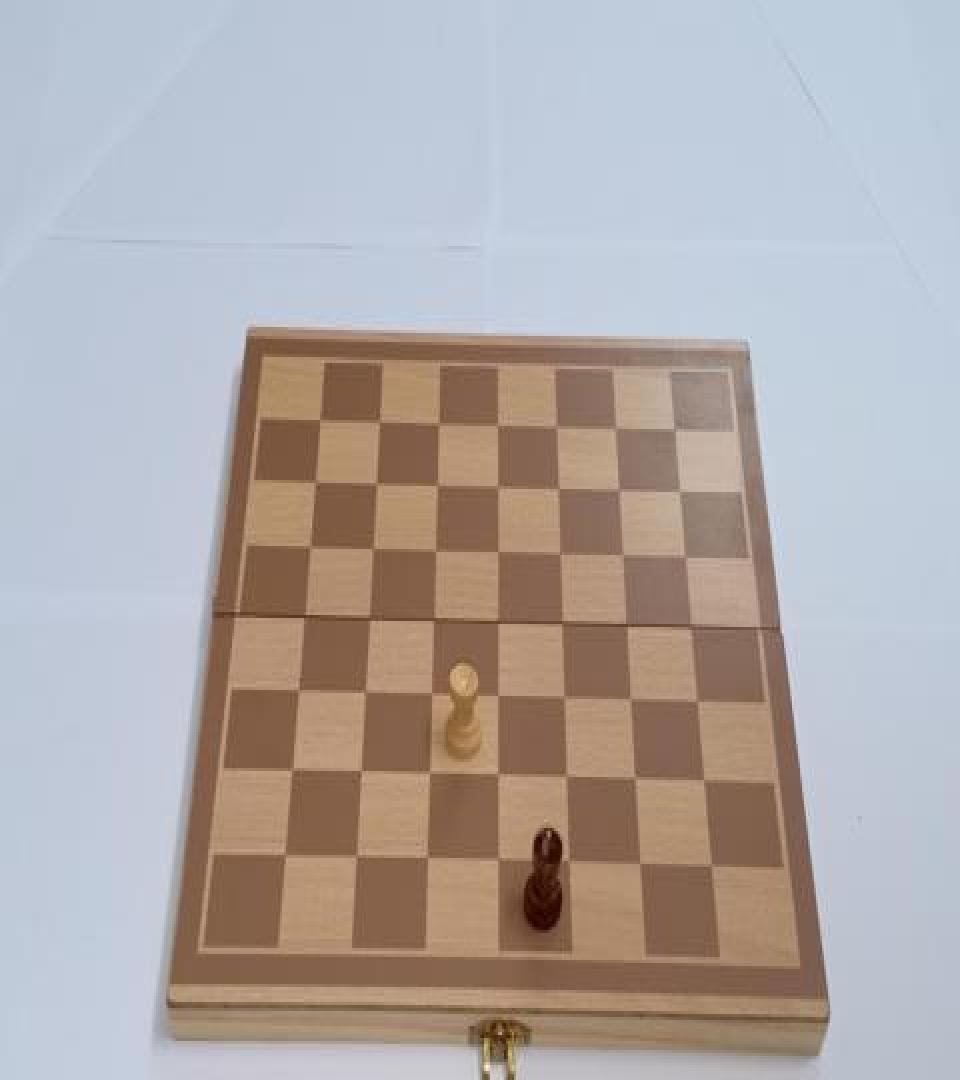xcorner: (311, 406, 329, 434), (429, 472, 447, 500), (422, 760, 440, 788), (608, 418, 626, 446), (306, 468, 324, 495), (300, 534, 318, 561), (295, 603, 313, 630), (289, 678, 307, 705), (283, 756, 301, 783), (276, 840, 294, 867), (367, 471, 385, 498), (360, 606, 378, 633), (348, 843, 366, 870), (430, 411, 448, 438), (427, 538, 445, 565), (424, 681, 442, 708), (420, 844, 438, 871), (490, 414, 508, 441), (490, 540, 508, 567), (491, 609, 509, 636), (491, 684, 509, 711), (491, 762, 509, 789), (492, 846, 510, 873), (549, 415, 567, 442), (551, 477, 569, 504), (553, 543, 571, 570), (555, 612, 573, 639), (611, 480, 629, 507), (615, 545, 633, 572), (624, 687, 642, 714), (629, 765, 647, 792), (634, 849, 652, 876), (666, 420, 684, 447), (672, 481, 690, 508), (678, 546, 696, 573), (684, 615, 702, 642), (690, 689, 708, 716), (697, 768, 715, 795), (704, 851, 722, 878), (371, 410, 389, 436), (364, 536, 382, 562), (357, 680, 375, 706), (352, 758, 370, 784), (426, 608, 444, 634), (490, 476, 508, 502), (558, 686, 576, 712), (560, 764, 578, 790), (563, 848, 581, 874), (620, 614, 638, 640)
